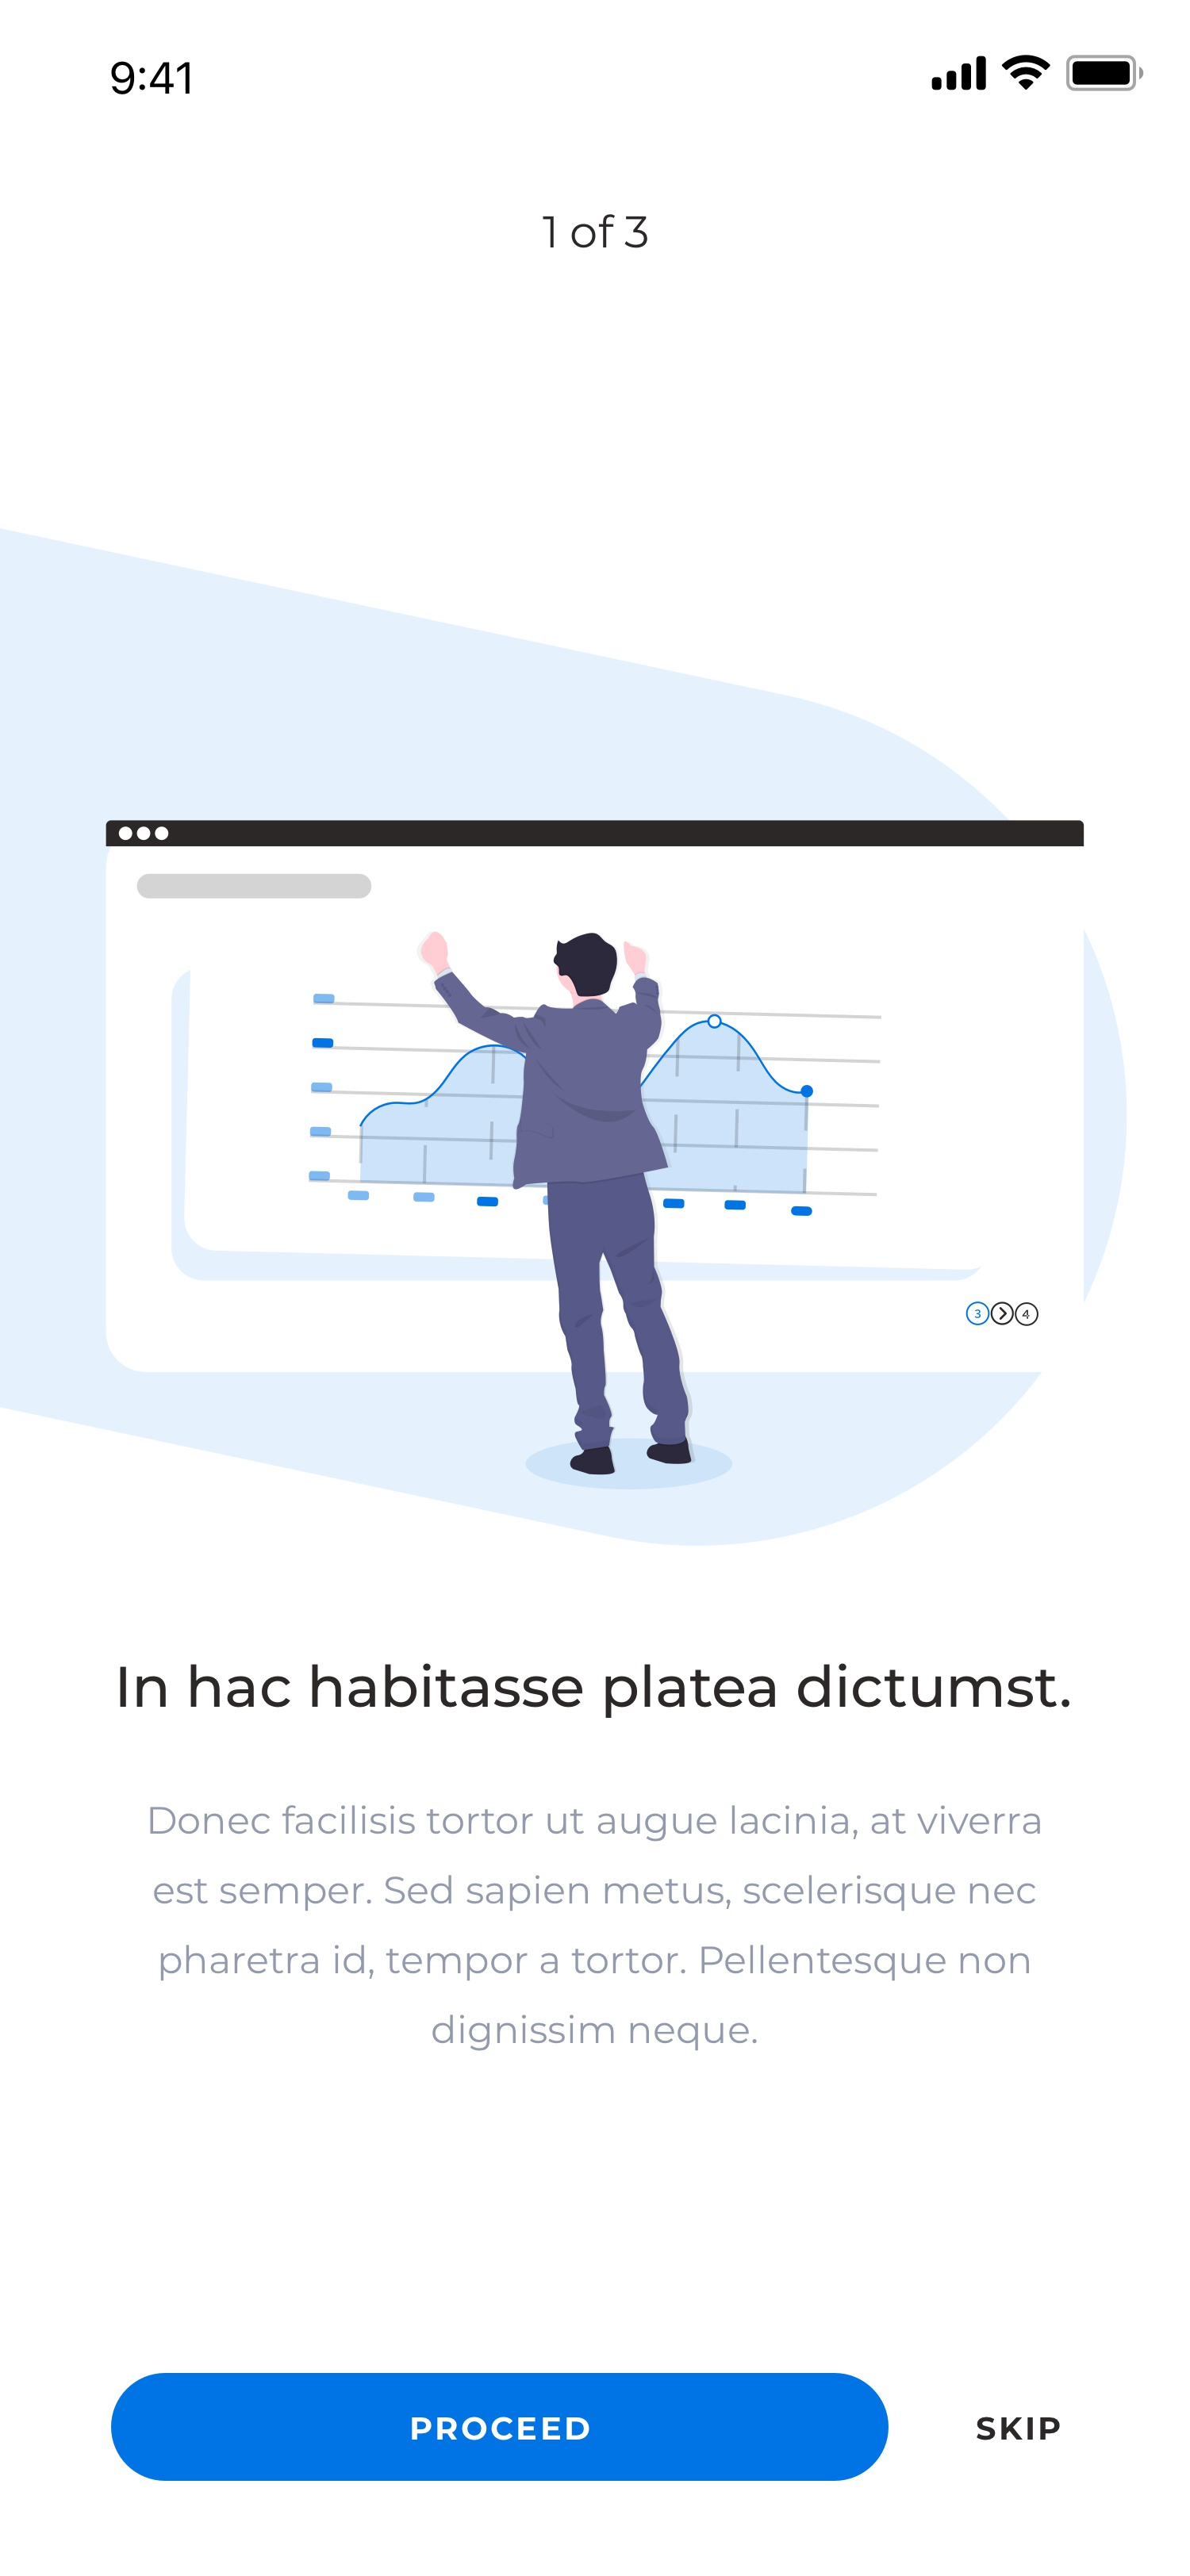Image: (105, 820, 1085, 1492)
Text: (150, 1804, 1040, 2052), (120, 1663, 1070, 1718), (542, 214, 648, 250), (976, 2417, 1060, 2440)
TextButton: (112, 2372, 889, 2482)
UpperTaskBar: (112, 54, 1144, 95)
